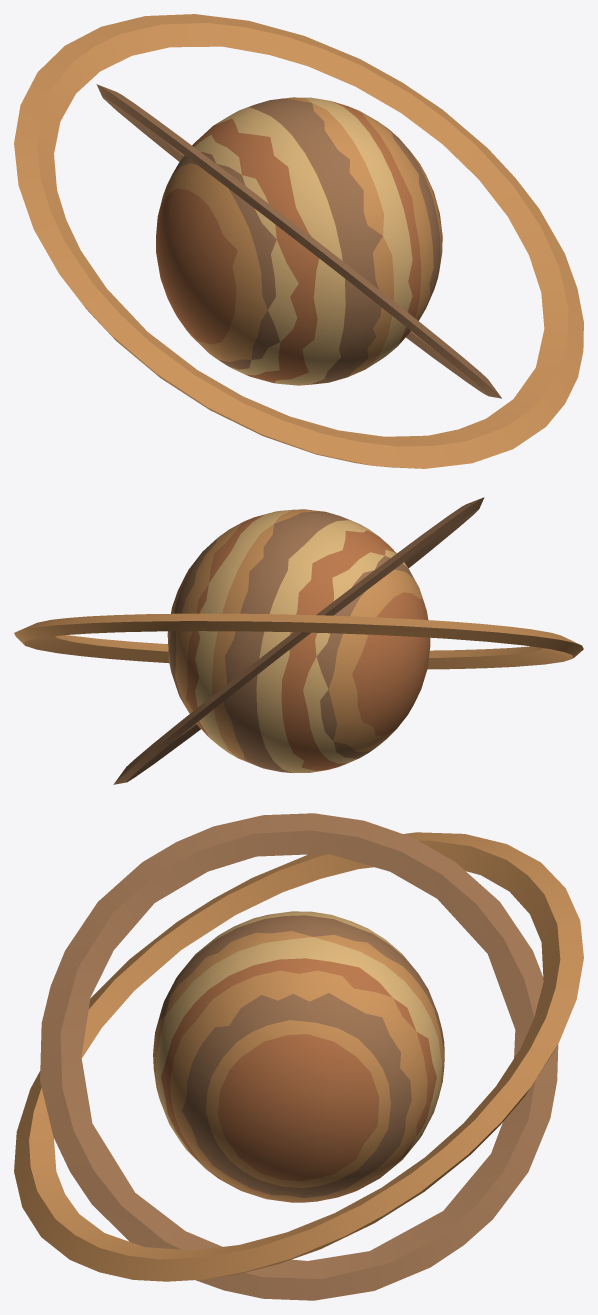
File: rings.glb
The picture shows the model from 3 angles, top to bottom: view 1: azimuth 30°, elevation 25°; view 2: azimuth 150°, elevation 25°; view 3: azimuth 270°, elevation 25°; orthographic projection. The views are drawn at different scales.
Parts seen in each view (by area): view 1: Rings; view 2: Rings; view 3: Rings.
Part boxes in pixels (x1,y1,x2,y2): Rings: [14, 14, 583, 468]; Rings: [14, 497, 583, 784]; Rings: [14, 813, 583, 1300].
Bounding box in the file's own units: 4.81 × 2.87 × 4.46.
Materials: 1 (1 with a texture image).
